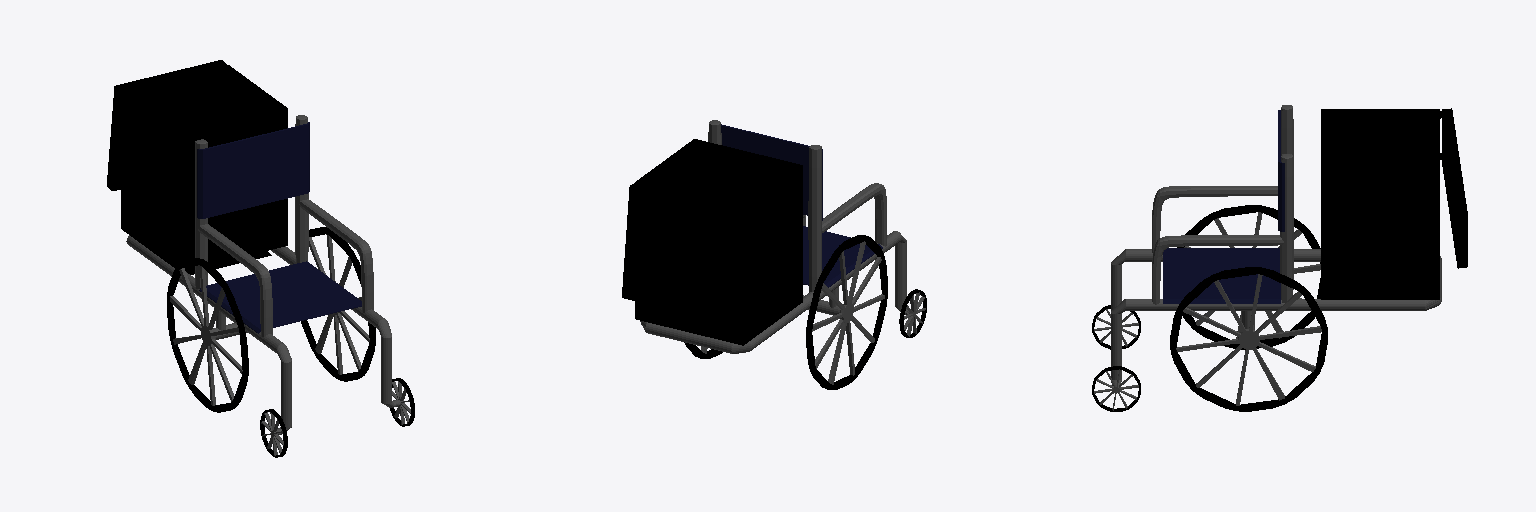
Rendered from Wheelchair.obj.
3 views of the same model, side by side, from view 1: azimuth 30°, elevation 25°; view 2: azimuth 150°, elevation 25°; view 3: azimuth 270°, elevation 25° (orthographic).
Parts seen in each view (by area): view 1: Box_Inner2; view 2: Box_Inner2; view 3: Box_Inner2.
Boxes of the visible parts, x1,y1,x2,y2 form: Box_Inner2: [107, 60, 414, 457]; Box_Inner2: [622, 120, 926, 389]; Box_Inner2: [1092, 105, 1467, 411].
Size of the model in its own units: 23.91 by 43.6 by 59.67.